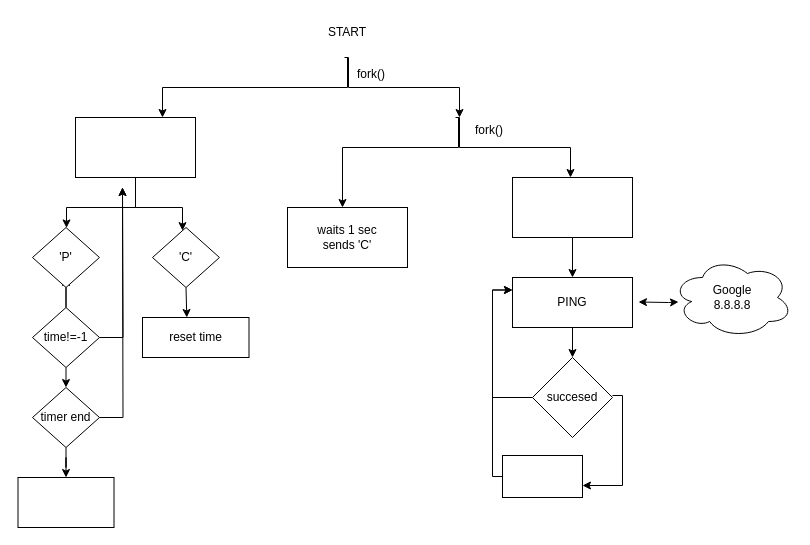
Image size: 810x545. Some labels were removed from this diagram. The shapes that lost their labels are listed below. From the top down, each one's centre as x and y in pixels, then its label:
At pixel 135 147: "recv()".
At pixel 572 207: "loas data sends 'P'".
At pixel 542 476: "senf 'P'".
At pixel 65 502: "timeout".
